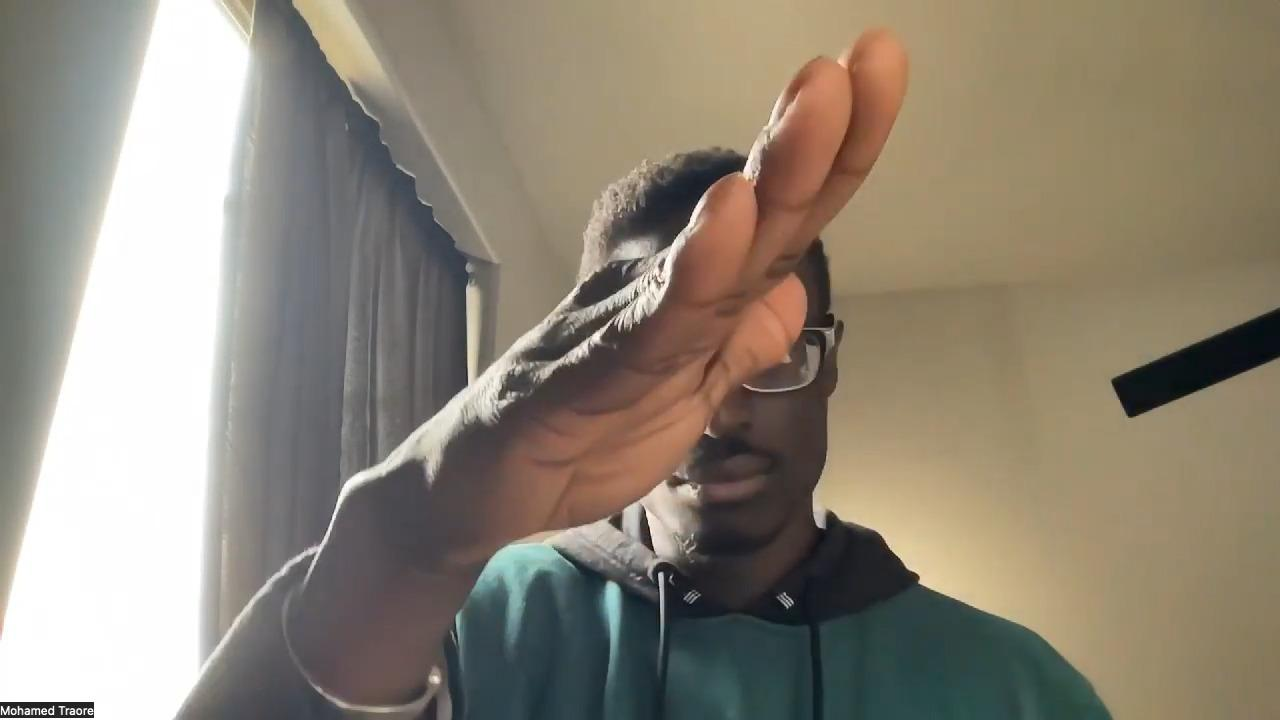Paper: (357, 27, 912, 566)
